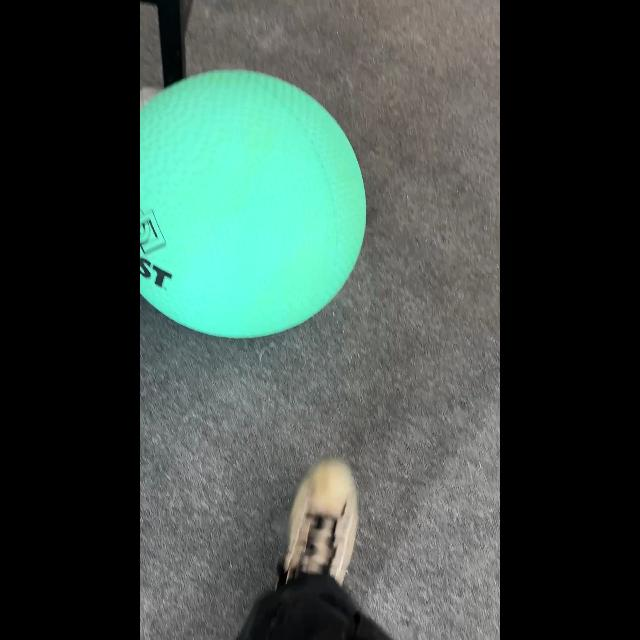ALGAE: (140, 68, 368, 340)
